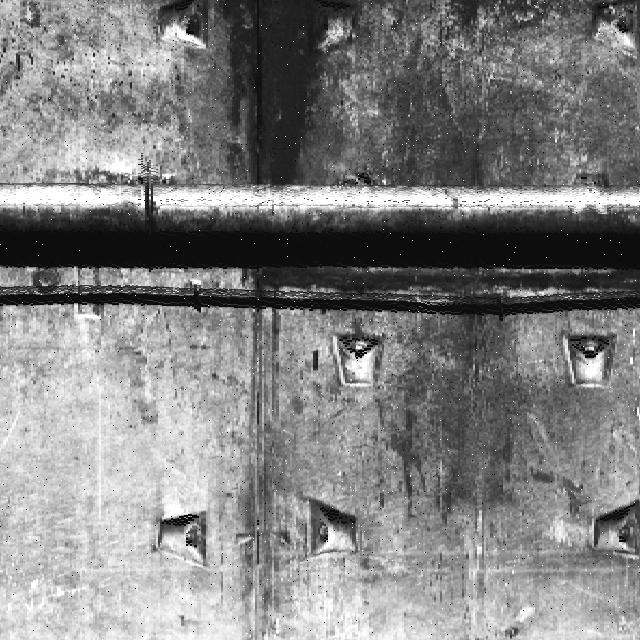leakage: (216, 4, 325, 192), (230, 268, 287, 427)
